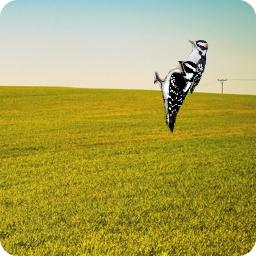Woodpecker: (154, 61, 198, 135), (181, 37, 211, 101)
